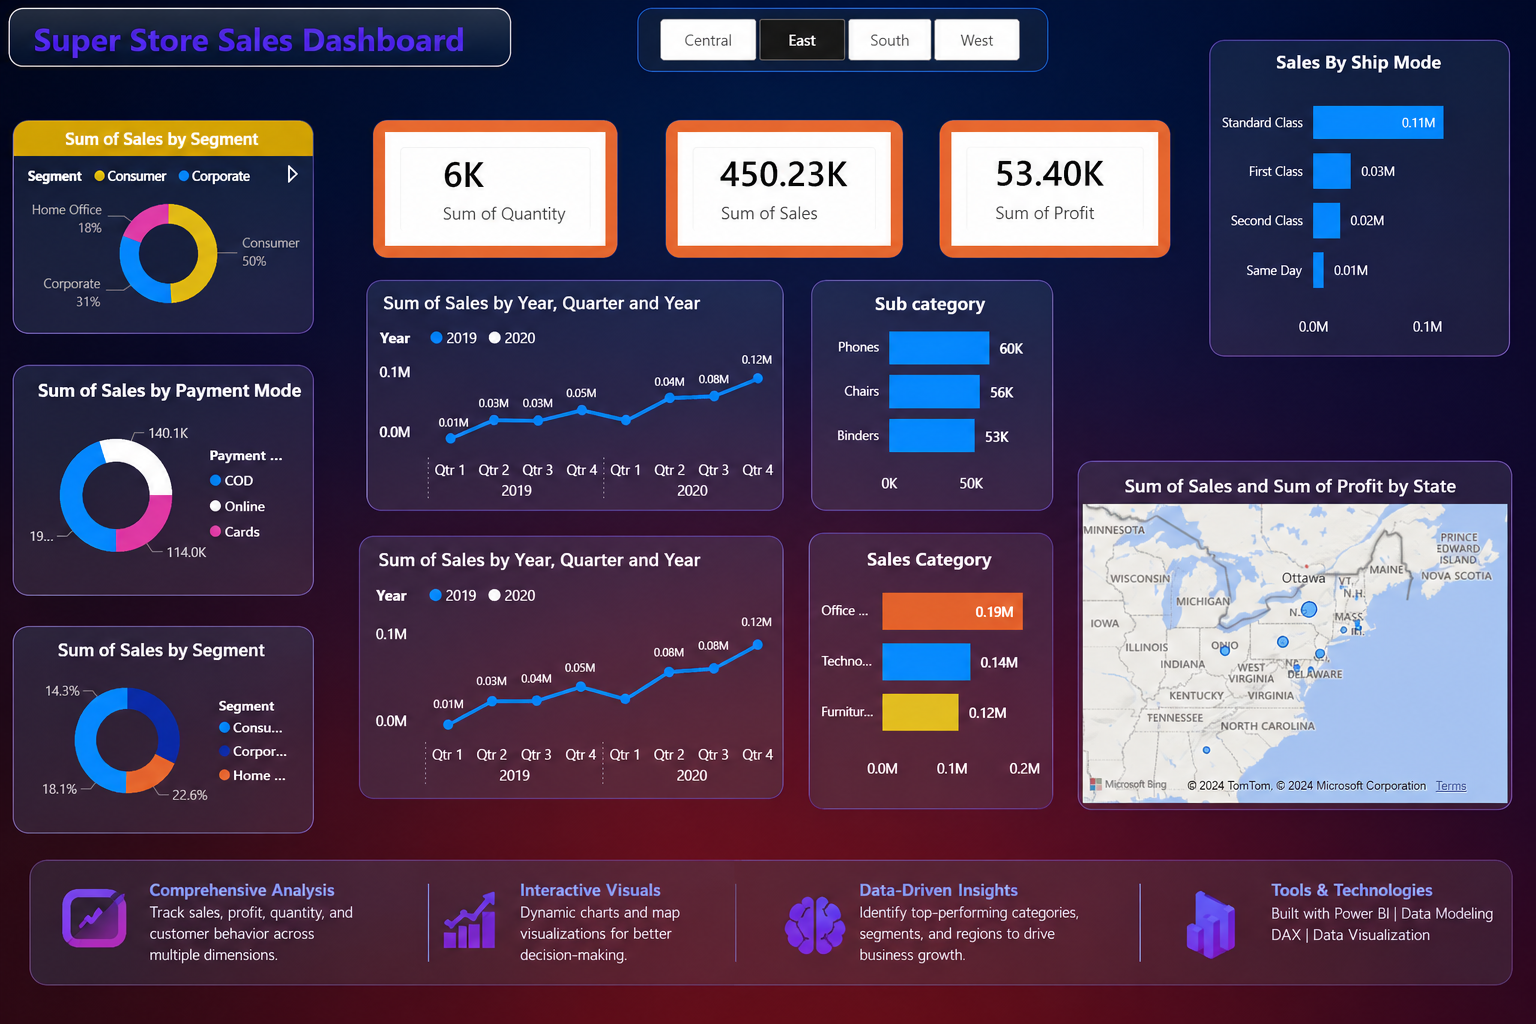

The dashboard page shown, as its layout file describes it:
{"tool":"powerbi","page":{"name":"Page 1","canvas":[1280,720],"ordinal":0},"visuals":[{"type":"clusteredBarChart","title":"Sales Categeogy","fields":{"Category":["SuperStore_Sales_Dataset (1).Category"],"Y":["Sum(SuperStore_Sales_Dataset (1).Sales)"]},"box":[718.4,427.6,181,242.3],"z":0},{"type":"clusteredBarChart","title":"Sub categeory","fields":{"Category":["SuperStore_Sales_Dataset (1).Sub-Category","SuperStore_Sales_Dataset (1).Category"],"Y":["Sum(SuperStore_Sales_Dataset (1).Sales)"]},"box":[724.1,242.3,178.2,175.3],"z":1000},{"type":"clusteredBarChart","title":"Sales By Ship  Mode","fields":{"Category":["SuperStore_Sales_Dataset (1).Ship Mode","SuperStore_Sales_Dataset (1).Sub-Category","SuperStore_Sales_Dataset (1).Category"],"Y":["Sum(SuperStore_Sales_Dataset (1).Sales)"]},"box":[1037.7,31.4,242.3,280.8],"z":2000},{"type":"stackedAreaChart","fields":{"Y":["Sum(SuperStore_Sales_Dataset (1).Sales)"],"Category":["SuperStore_Sales_Dataset (1).Order Date.Variation.Date Hierarchy.Year","SuperStore_Sales_Dataset (1).Order Date.Variation.Date Hierarchy.Quarter"],"Series":["SuperStore_Sales_Dataset (1).Order Date.Variation.Date Hierarchy.Year"]},"box":[315,238,357.8,182.4],"z":3000},{"type":"stackedAreaChart","fields":{"Y":["Sum(SuperStore_Sales_Dataset (1).Sales)"],"Category":["SuperStore_Sales_Dataset (1).Order Date.Variation.Date Hierarchy.Year","SuperStore_Sales_Dataset (1).Order Date.Variation.Date Hierarchy.Quarter"],"Series":["SuperStore_Sales_Dataset (1).Order Date.Variation.Date Hierarchy.Year"]},"box":[289.4,436.2,383.4,243.7],"z":4000},{"type":"map","fields":{"Category":["SuperStore_Sales_Dataset (1).State"],"Size":["Sum(SuperStore_Sales_Dataset (1).Sales)"]},"box":[935.1,404.8,344.9,265.1],"z":5000},{"type":"donutChart","fields":{"Category":["SuperStore_Sales_Dataset (1).Segment"],"Y":["Sum(SuperStore_Sales_Dataset (1).Sales)"]},"box":[0,101.2,262.3,182.4],"z":6000},{"type":"donutChart","fields":{"Category":["SuperStore_Sales_Dataset (1).Payment Mode"],"Y":["Sum(SuperStore_Sales_Dataset (1).Sales)"]},"box":[0,310.7,262.3,186.7],"z":7000},{"type":"slicer","fields":{"Values":["SuperStore_Sales_Dataset (1).Region"]},"box":[548.8,0,350.6,59.9],"z":8000},{"type":"textbox","box":[0,0,420.5,52.7],"z":9000},{"type":"cardVisual","fields":{"Data":["Sum(SuperStore_Sales_Dataset (1).Sales)"]},"box":[580.1,102.6,203.8,118.3],"z":10000},{"type":"cardVisual","fields":{"Data":["Sum(SuperStore_Sales_Dataset (1).Quantity)"]},"box":[317.9,101.2,203.8,118.3],"z":11000},{"type":"cardVisual","fields":{"Data":["Sum(SuperStore_Sales_Dataset (1).Profit)"]},"box":[815.3,101.2,203.8,118.3],"z":12000},{"type":"donutChart","fields":{"Category":["SuperStore_Sales_Dataset (1).Segment"],"Y":["Sum(SuperStore_Sales_Dataset (1).Sales)"]},"box":[0,520.3,262.3,186.7],"z":13000}]}

Visuals, with their boxes on the page's 1280x720 design canvas (x1, y1, x2, y2). These are canvas units, not pixel positions in the 1536x1024 screenshot, which may show the page scaled, cropped or inside an application window:
"Sales Categeogy" clusteredBarChart: locate(718, 428, 899, 670)
"Sub categeory" clusteredBarChart: locate(724, 242, 902, 418)
"Sales By Ship  Mode" clusteredBarChart: locate(1038, 31, 1280, 312)
stackedAreaChart - Sum(SuperStore_Sales_Dataset (1).Sales) x SuperStore_Sales_Dataset (1).Order Date.Variation.Date Hierarchy.Year: locate(315, 238, 673, 420)
stackedAreaChart - Sum(SuperStore_Sales_Dataset (1).Sales) x SuperStore_Sales_Dataset (1).Order Date.Variation.Date Hierarchy.Year: locate(289, 436, 673, 680)
map - SuperStore_Sales_Dataset (1).State x Sum(SuperStore_Sales_Dataset (1).Sales): locate(935, 405, 1280, 670)
donutChart - SuperStore_Sales_Dataset (1).Segment x Sum(SuperStore_Sales_Dataset (1).Sales): locate(0, 101, 262, 284)
donutChart - SuperStore_Sales_Dataset (1).Payment Mode x Sum(SuperStore_Sales_Dataset (1).Sales): locate(0, 311, 262, 497)
slicer - SuperStore_Sales_Dataset (1).Region: locate(549, 0, 899, 60)
textbox: locate(0, 0, 420, 53)
cardVisual - Sum(SuperStore_Sales_Dataset (1).Sales): locate(580, 103, 784, 221)
cardVisual - Sum(SuperStore_Sales_Dataset (1).Quantity): locate(318, 101, 522, 220)
cardVisual - Sum(SuperStore_Sales_Dataset (1).Profit): locate(815, 101, 1019, 220)
donutChart - SuperStore_Sales_Dataset (1).Segment x Sum(SuperStore_Sales_Dataset (1).Sales): locate(0, 520, 262, 707)
